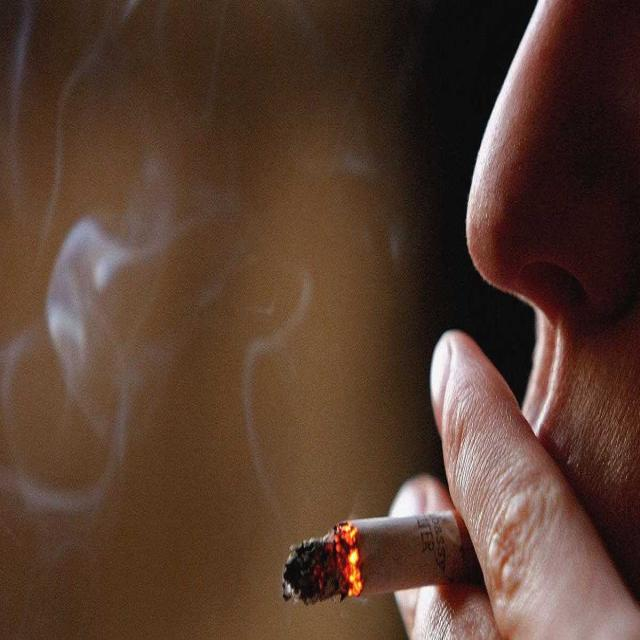Smooking: (260, 492, 493, 607)
